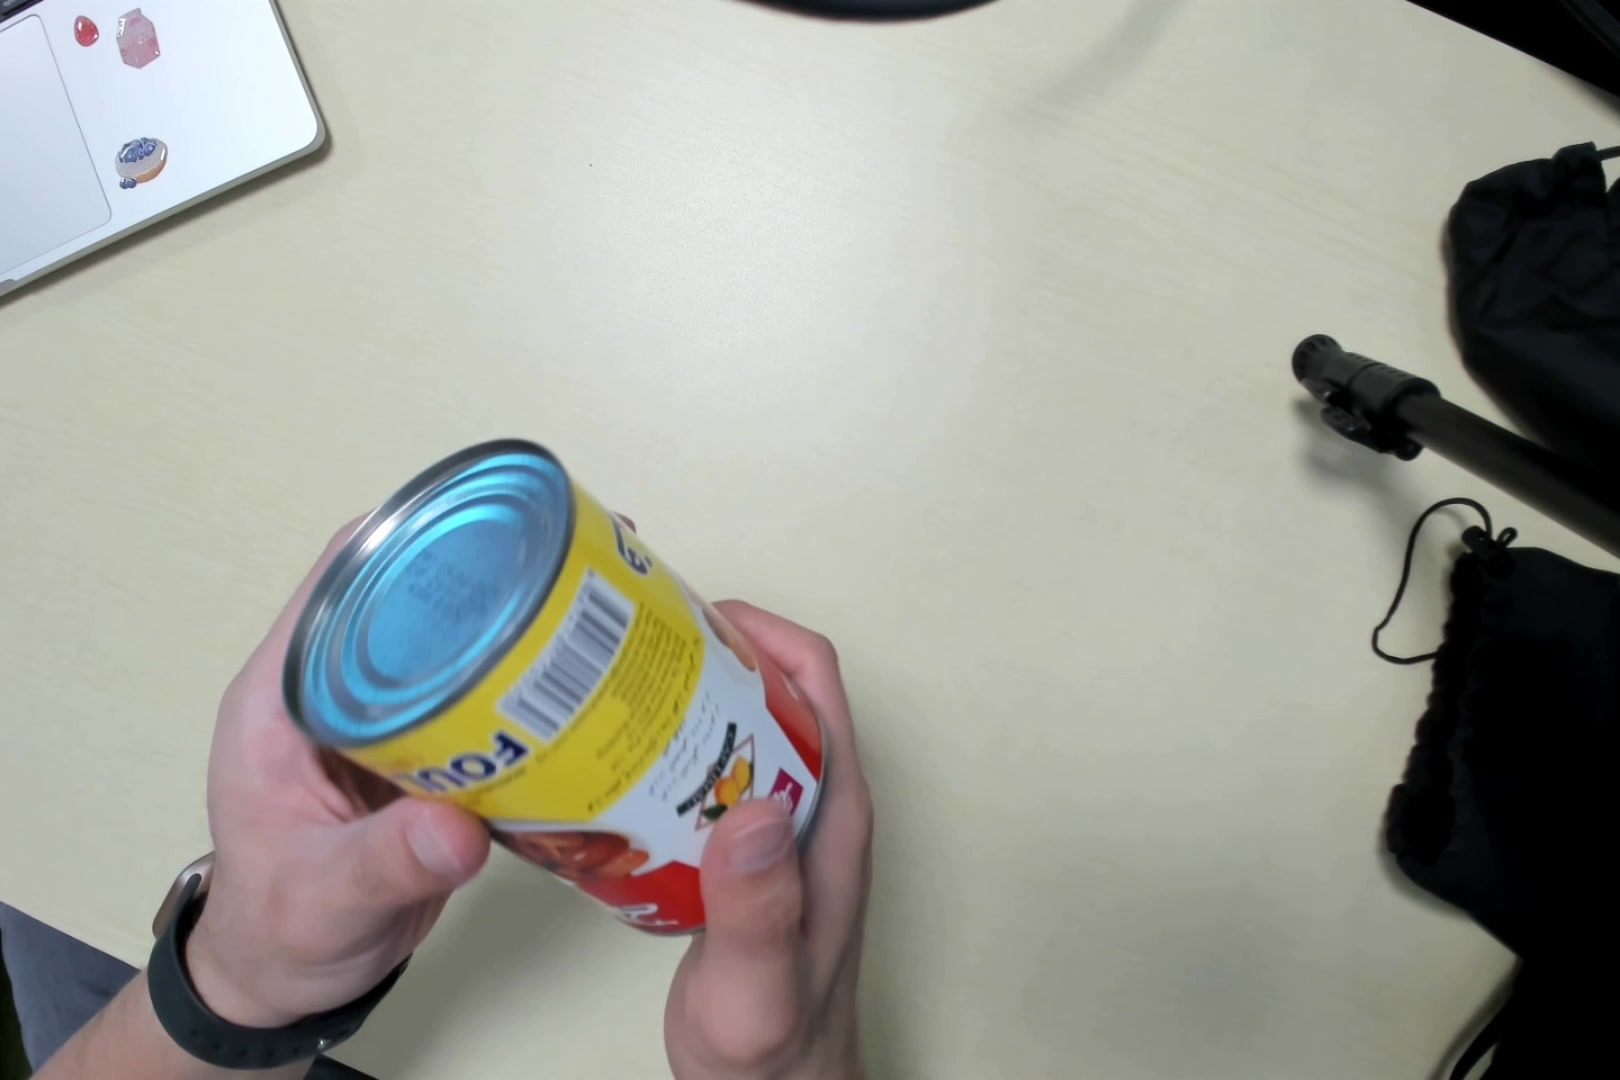OtherCannedBeansPeasPeanuts_400-499g_Halal_NonHealthy: (299, 442, 827, 931)
